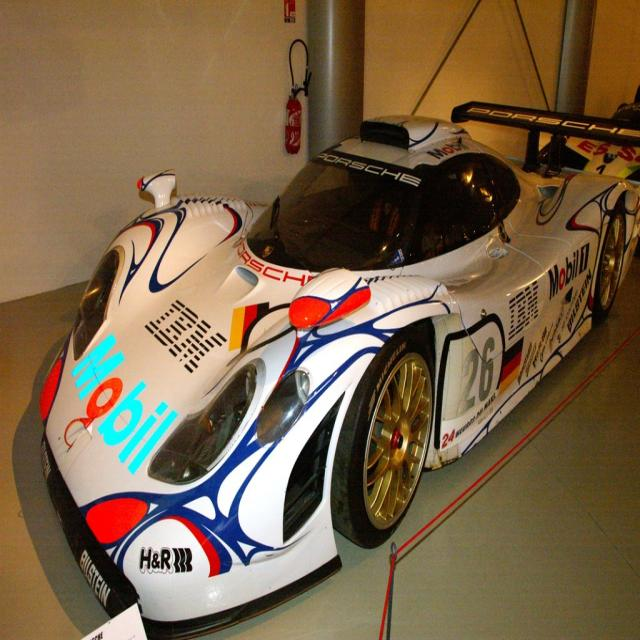car: (38, 95, 639, 633)
